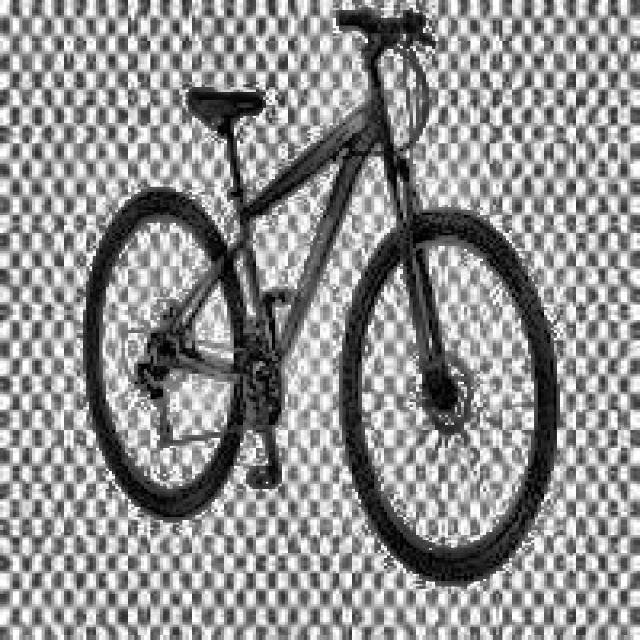motorcycle: (83, 8, 624, 583)
